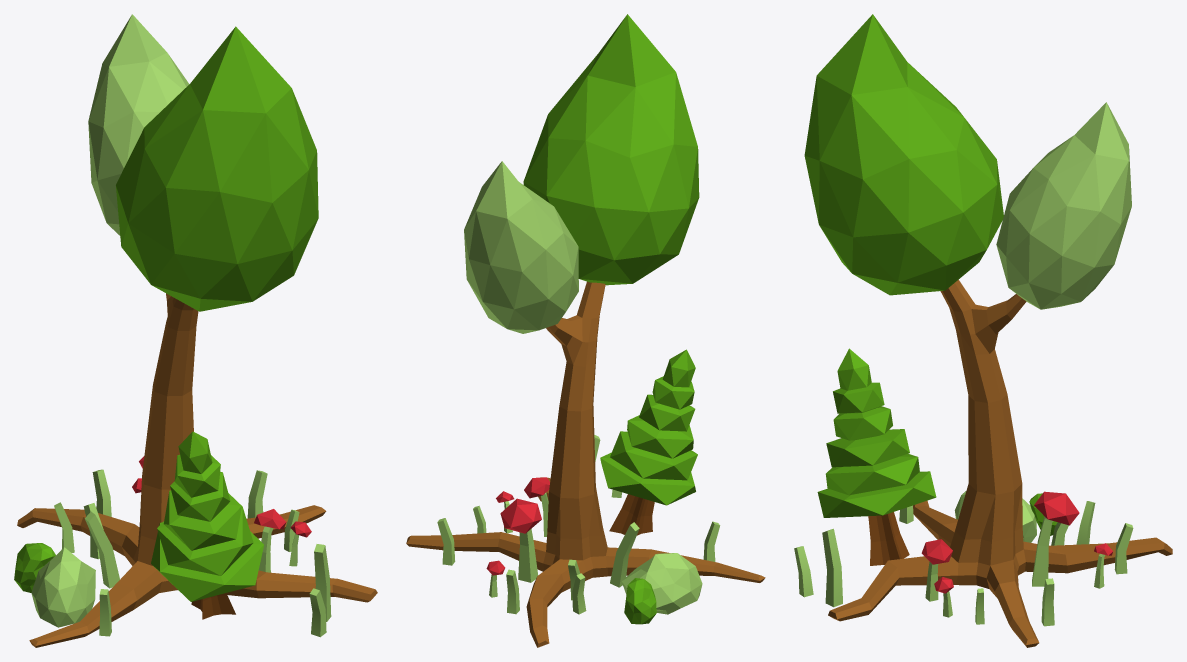
File: Tree_Tear_01.fbx
3 views of the same model, side by side, from view 1: azimuth 30°, elevation 25°; view 2: azimuth 150°, elevation 25°; view 3: azimuth 270°, elevation 25° (orthographic). The views are drawn at different scales.
Visible parts, largest first — view 1: Tree_; view 2: Tree_; view 3: Tree_.
Boxes of the visible parts, bbox=[...] form: Tree_: bbox=[14, 14, 377, 647]; Tree_: bbox=[406, 14, 765, 647]; Tree_: bbox=[794, 14, 1172, 647].
Bounding box in the file's own units: 3.62 × 6.04 × 3.59.
